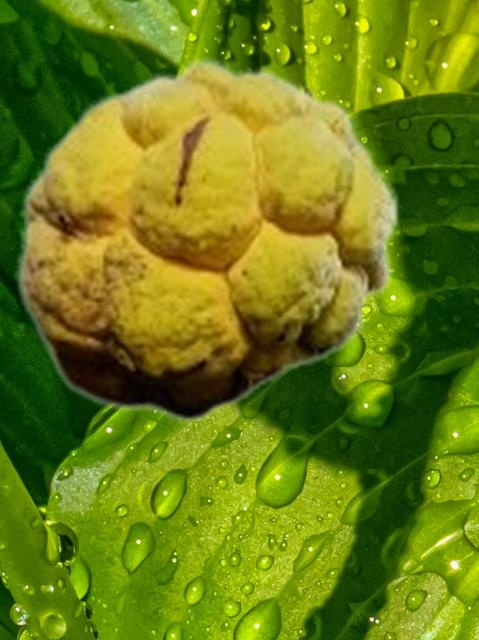atis: (14, 57, 399, 422)
